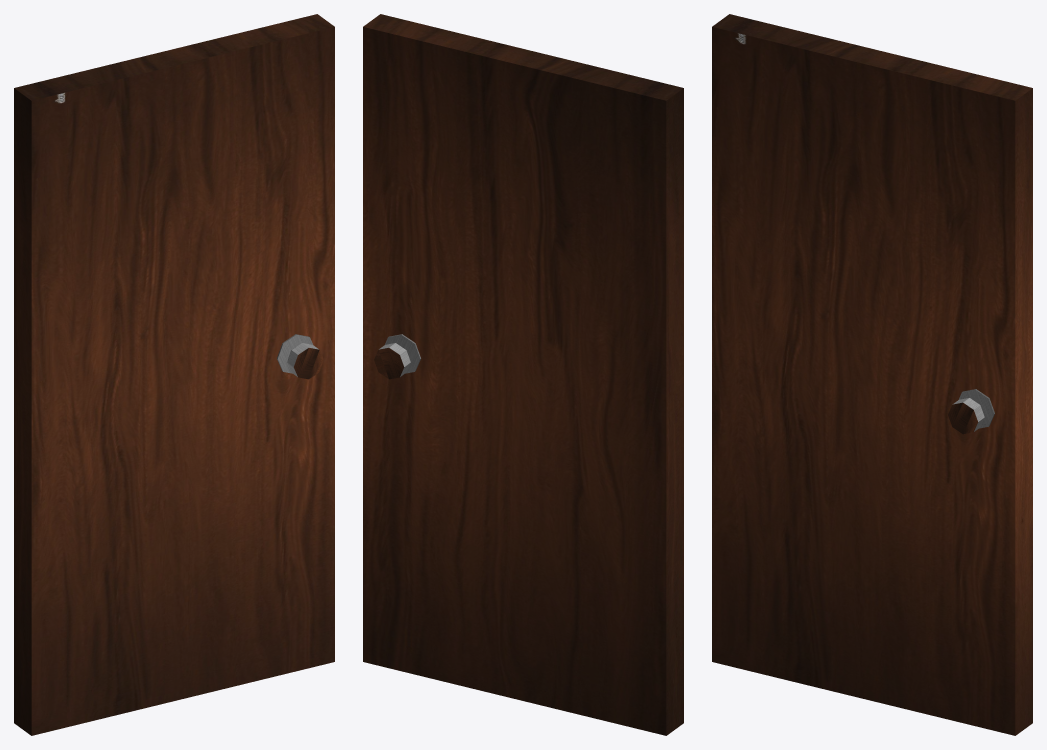
File: door.obj
3 views of the same model, side by side, from view 1: azimuth 30°, elevation 25°; view 2: azimuth 150°, elevation 25°; view 3: azimuth 330°, elevation 25° (orthographic).
Parts seen in each view (by area): view 1: Door_Cube, Locker_Cube.001; view 2: Door_Cube, Locker_Cube.001; view 3: Door_Cube, Locker_Cube.001.
Part boxes in pixels (<box>): Door_Cube: <box>14,14,334,735</box>; Locker_Cube.001: <box>277,334,323,379</box>; Door_Cube: <box>363,14,683,735</box>; Locker_Cube.001: <box>374,334,420,379</box>; Door_Cube: <box>712,14,1032,735</box>; Locker_Cube.001: <box>948,389,994,434</box>.
Bounding box in the file's own units: 4 × 8 × 1.
